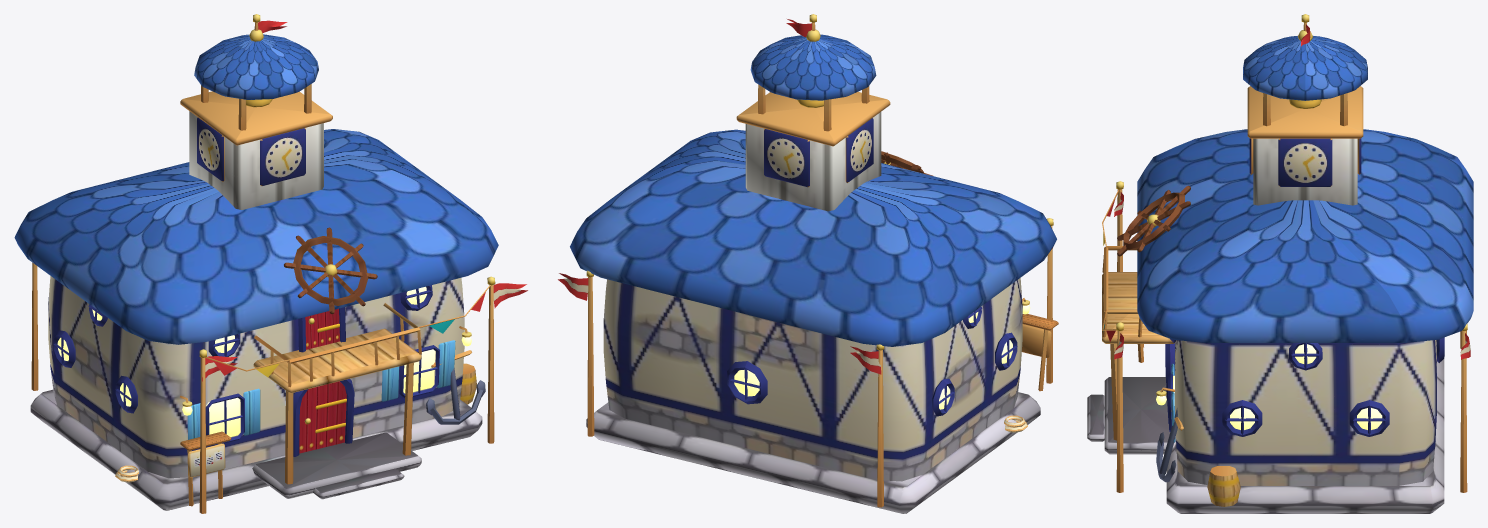
File: harbour_hall_grand.glb
3 renders of one model, left to right at view 1: azimuth 30°, elevation 25°; view 2: azimuth 150°, elevation 25°; view 3: azimuth 270°, elevation 25°, orthographic. The views are drawn at different scales.
Parts seen in each view (by area): view 1: harbour_hall_grand; view 2: harbour_hall_grand; view 3: harbour_hall_grand.
Boxes of the visible parts, x1,y1,x2,y2 form: harbour_hall_grand: (14,14,527,513); harbour_hall_grand: (558,14,1058,513); harbour_hall_grand: (1087,14,1473,513).
Bounding box in the file's own units: 11.19 × 12.1 × 10.01.
Materials: 4 (4 with a texture image).
